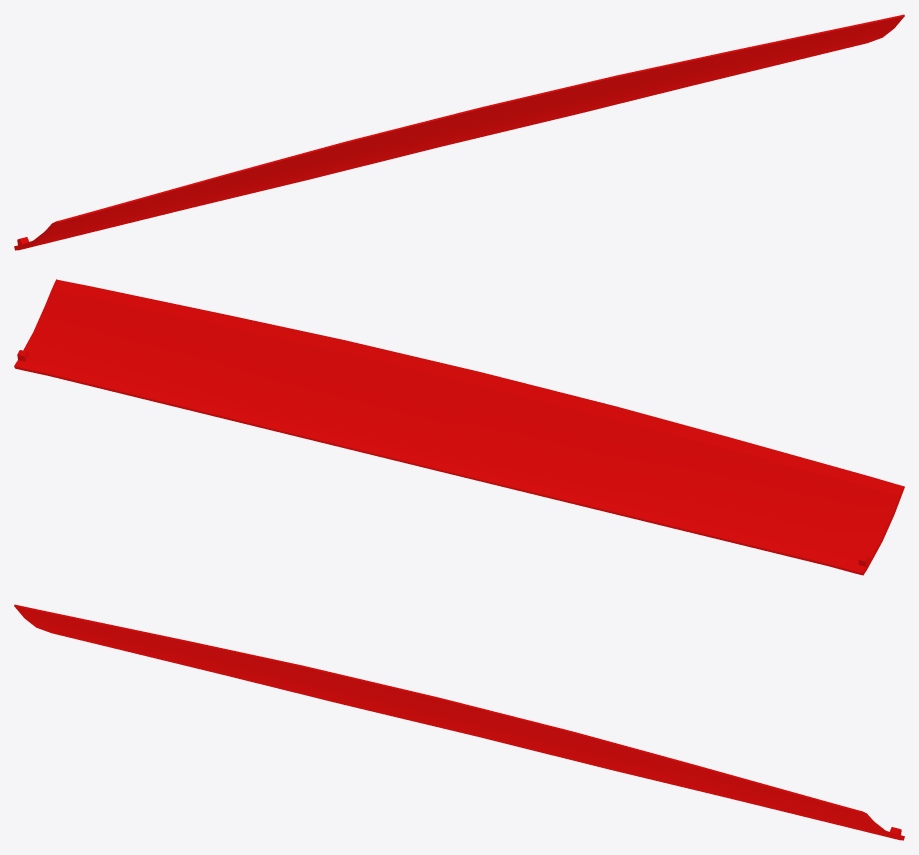
Rendered from SM_air_conditioner_01_leaf.glb.
3 renders of one model, top to bottom at view 1: azimuth 30°, elevation 25°; view 2: azimuth 150°, elevation 25°; view 3: azimuth 330°, elevation 25°, orthographic.
Parts seen in each view (by area): view 1: SM_air_conditioner_01_leaf_LOD0; view 2: SM_air_conditioner_01_leaf_LOD0; view 3: SM_air_conditioner_01_leaf_LOD0.
Boxes of the visible parts, left/top/right/bottom form: SM_air_conditioner_01_leaf_LOD0: left=14, top=14, right=904, bottom=250; SM_air_conditioner_01_leaf_LOD0: left=14, top=279, right=904, bottom=575; SM_air_conditioner_01_leaf_LOD0: left=14, top=604, right=904, bottom=840.
Size of what is drawn, in the model's own units: 0.6838 by 0.0538 by 0.0611.
